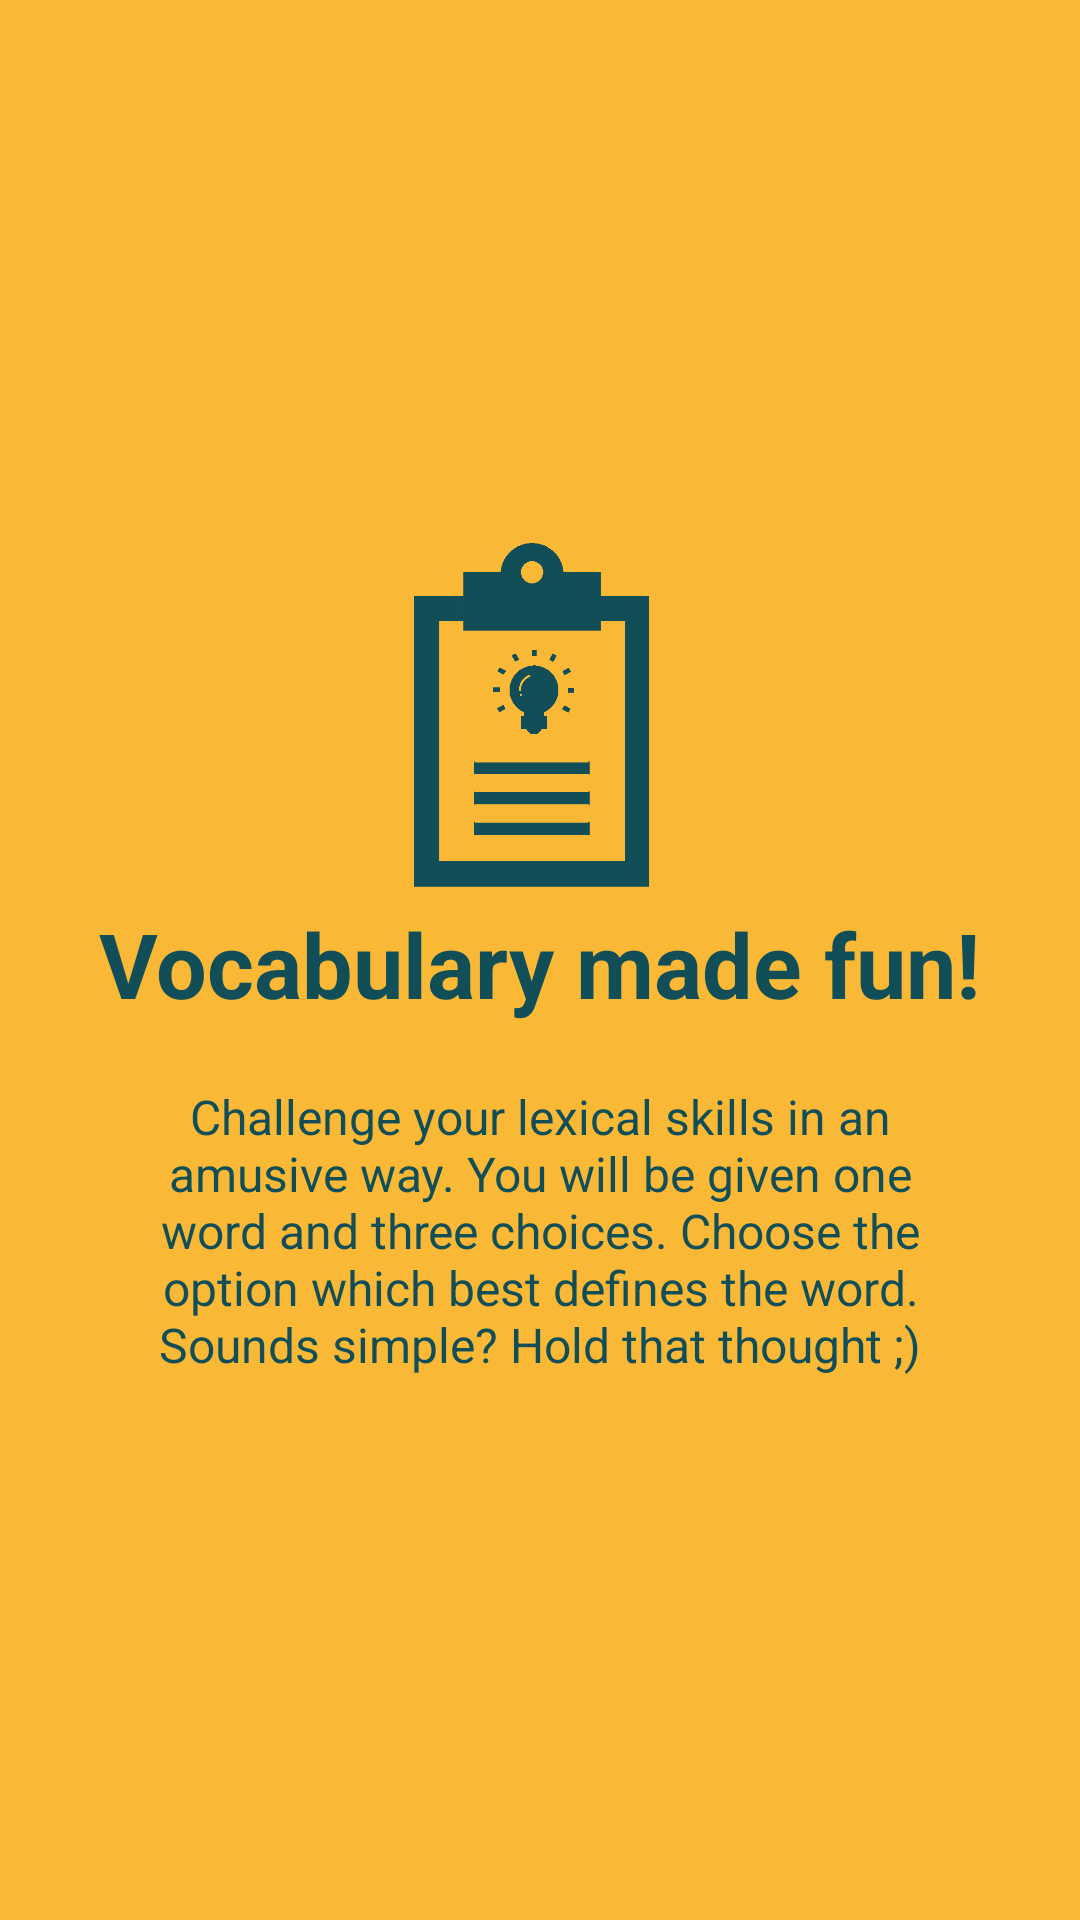

Where icons sit on this 1080 x 1920 app screen, as (x1, y1, x2, y2):
writting pad: (414, 543, 649, 887)
